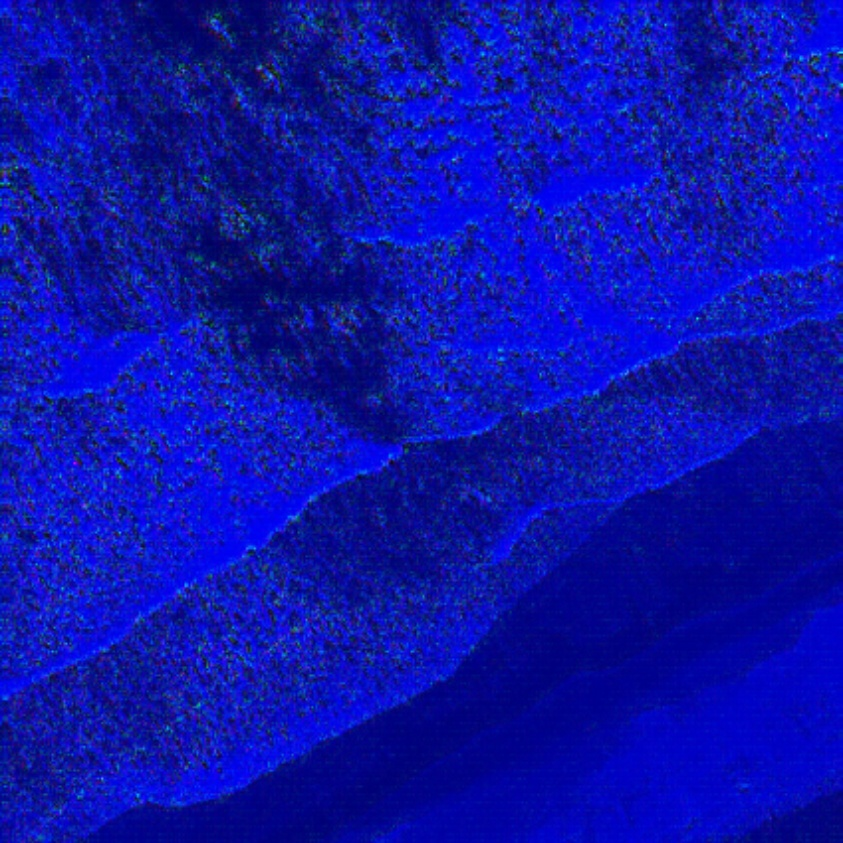rip_current: (137, 150, 482, 487)
